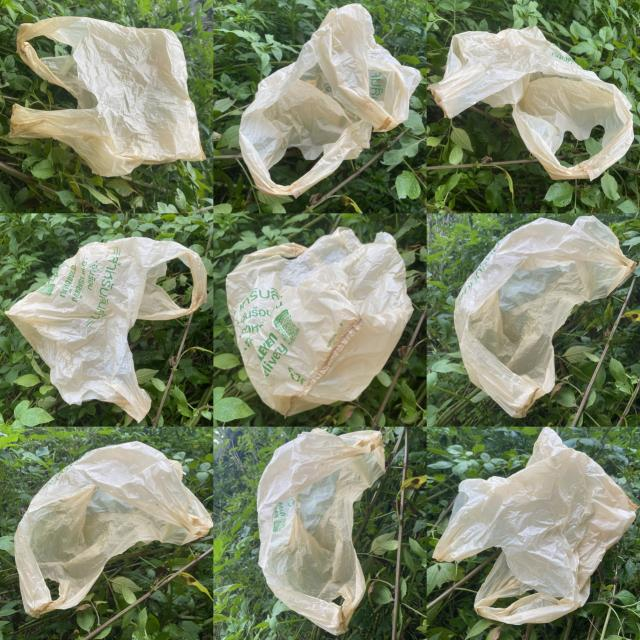Single-layer Plastic: (434, 428, 636, 624), (6, 238, 206, 421), (454, 216, 635, 417), (226, 226, 414, 416), (239, 4, 421, 197), (15, 441, 212, 616), (10, 16, 205, 176), (429, 28, 634, 179), (258, 429, 385, 634)
